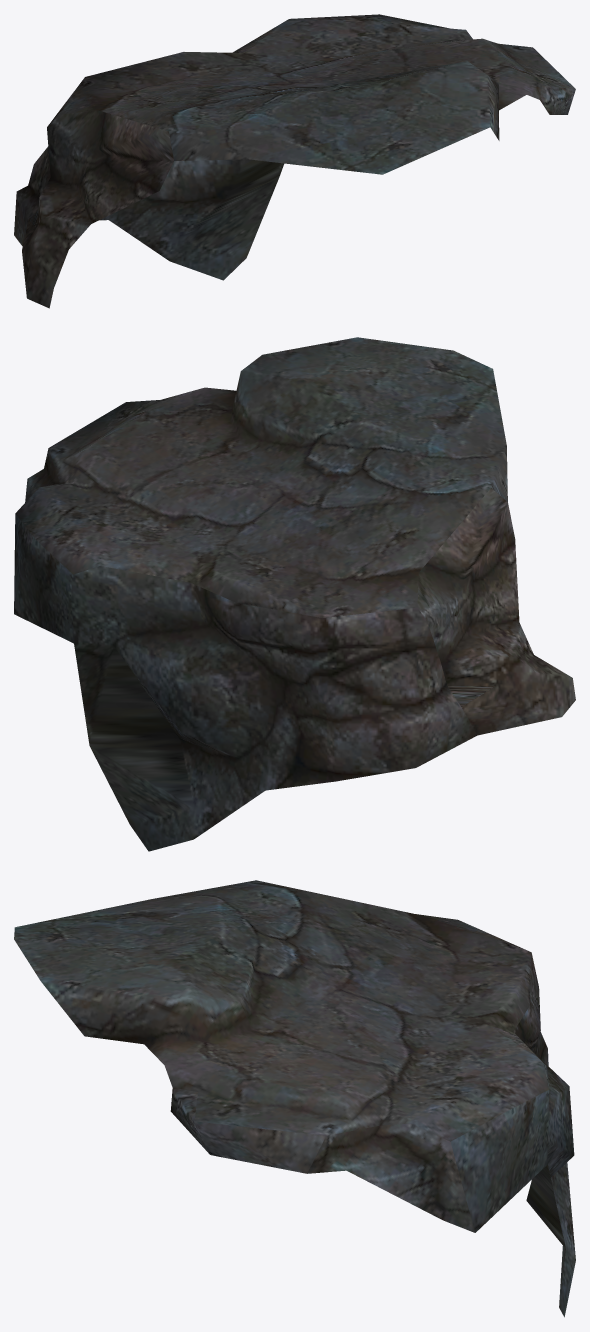
Rendered from S_Rock_Yellow033_10.FBX.
3 renders of one model, top to bottom at view 1: azimuth 30°, elevation 25°; view 2: azimuth 150°, elevation 25°; view 3: azimuth 270°, elevation 25°, orthographic. The views are drawn at different scales.
Parts seen in each view (by area): view 1: S_Rock_Yellow033_10; view 2: S_Rock_Yellow033_10; view 3: S_Rock_Yellow033_10.
Part boxes in pixels (x1,y1,x2,y2): S_Rock_Yellow033_10: (14,14,575,308); S_Rock_Yellow033_10: (14,337,575,851); S_Rock_Yellow033_10: (14,880,575,1317).
Size of the model in its own units: 329 by 280 by 199.
